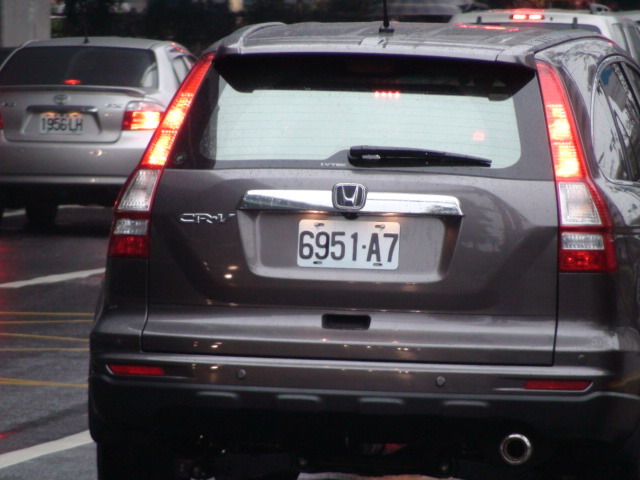plate: (297, 214, 402, 274), (37, 110, 86, 135)
